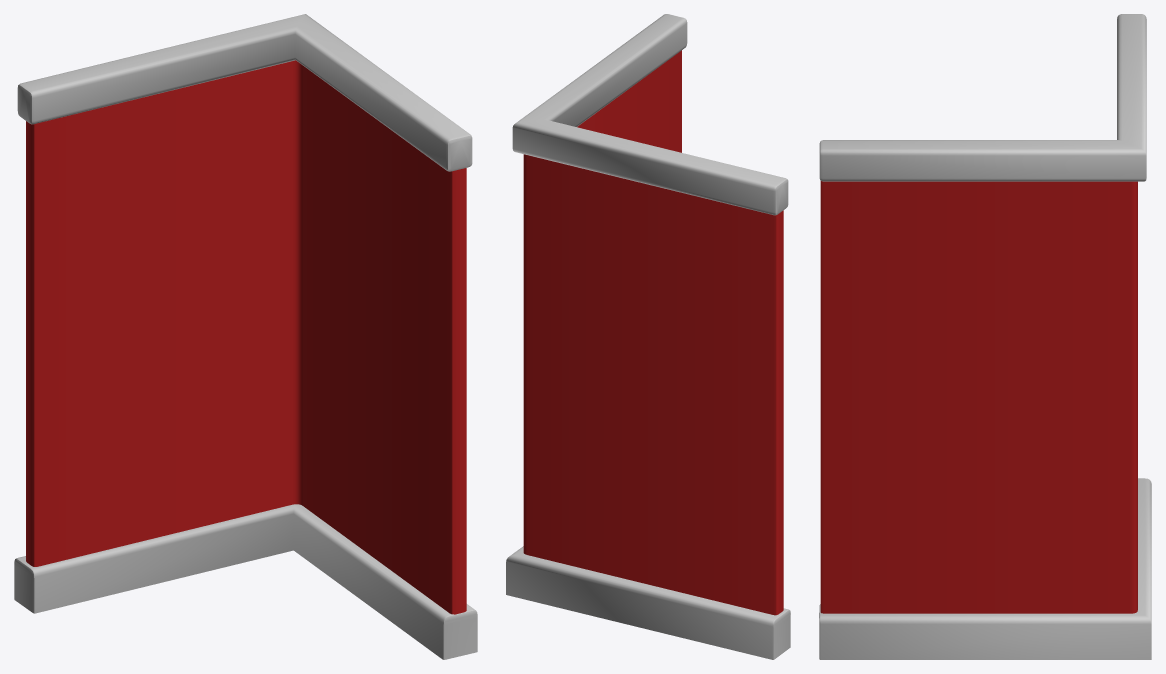
File: SM_wall_corner.fbx
3 renders of one model, left to right at view 1: azimuth 30°, elevation 25°; view 2: azimuth 150°, elevation 25°; view 3: azimuth 270°, elevation 25°, orthographic. The views are drawn at different scales.
Parts seen in each view (by area): view 1: Object054; view 2: Object054; view 3: Object054.
Boxes of the visible parts, <box> form: Object054: <box>14,14,477,659</box>; Object054: <box>506,14,790,659</box>; Object054: <box>819,14,1151,659</box>.
Bounding box in the file's own units: 99.7 × 168 × 99.7.
